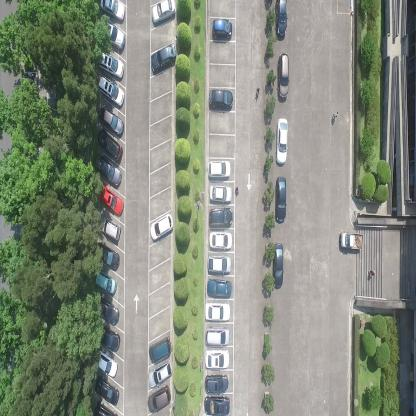car: (97, 126, 123, 163), (94, 154, 122, 188), (97, 74, 125, 107), (98, 103, 124, 137), (98, 183, 124, 217), (150, 40, 176, 73), (93, 375, 119, 406), (150, 209, 174, 242), (147, 359, 173, 389), (94, 242, 120, 272), (148, 382, 172, 414), (101, 20, 125, 51), (96, 294, 120, 325), (97, 50, 124, 77), (148, 335, 172, 364), (98, 324, 121, 353), (275, 116, 288, 166), (276, 51, 289, 100), (271, 242, 284, 290), (98, 216, 121, 243), (96, 351, 118, 379), (274, 175, 286, 224), (95, 270, 118, 295), (338, 230, 364, 252), (205, 301, 231, 323), (207, 89, 234, 110), (274, 0, 288, 40), (210, 17, 233, 41), (205, 372, 229, 395), (151, 0, 175, 23), (208, 206, 233, 228), (204, 326, 230, 346), (205, 350, 231, 370), (100, 0, 126, 20), (203, 396, 231, 414), (208, 231, 233, 251), (206, 279, 232, 298), (208, 254, 232, 274), (208, 184, 232, 203), (208, 160, 231, 178), (94, 401, 118, 415)
